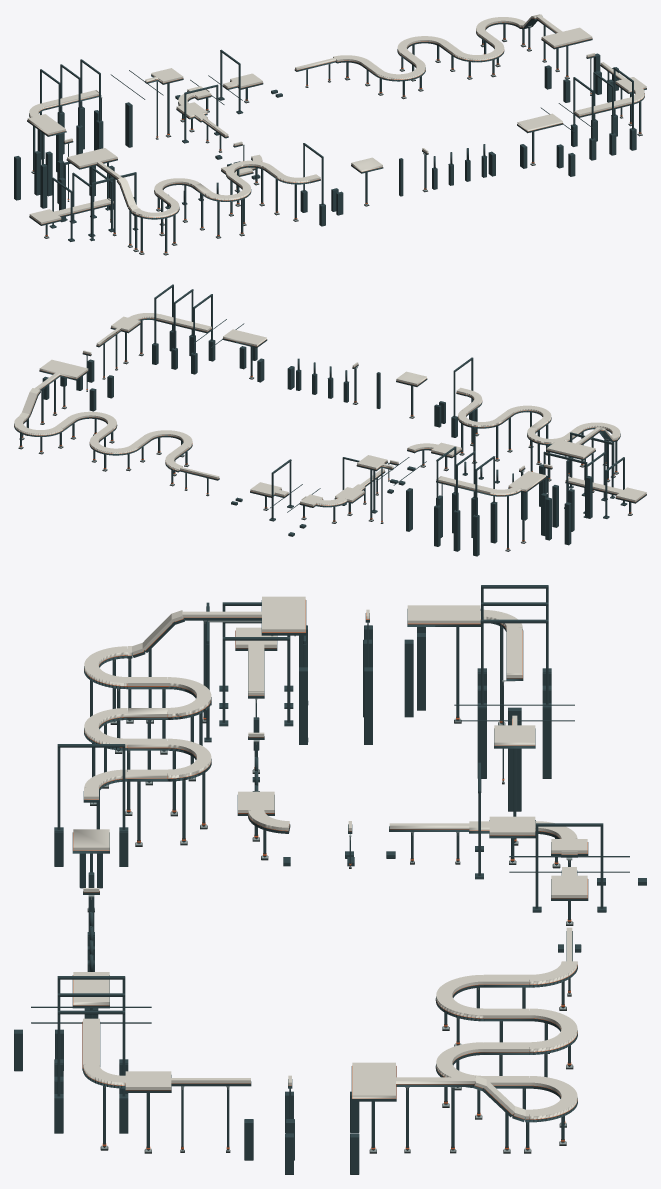
Rendered from top-difficulty-track.glb.
The picture shows the model from 3 angles, top to bottom: view 1: azimuth 30°, elevation 25°; view 2: azimuth 150°, elevation 25°; view 3: azimuth 270°, elevation 25°; orthographic projection. The views are drawn at different scales.
Visible parts, largest first — view 1: TrackStatic; view 2: TrackStatic; view 3: TrackStatic.
Part boxes in pixels (x1,y1,x2,y2): TrackStatic: (14, 14, 646, 255); TrackStatic: (14, 284, 646, 556); TrackStatic: (14, 585, 646, 1174).
Bounding box in the file's own units: 106 × 15.2 × 55.58.
